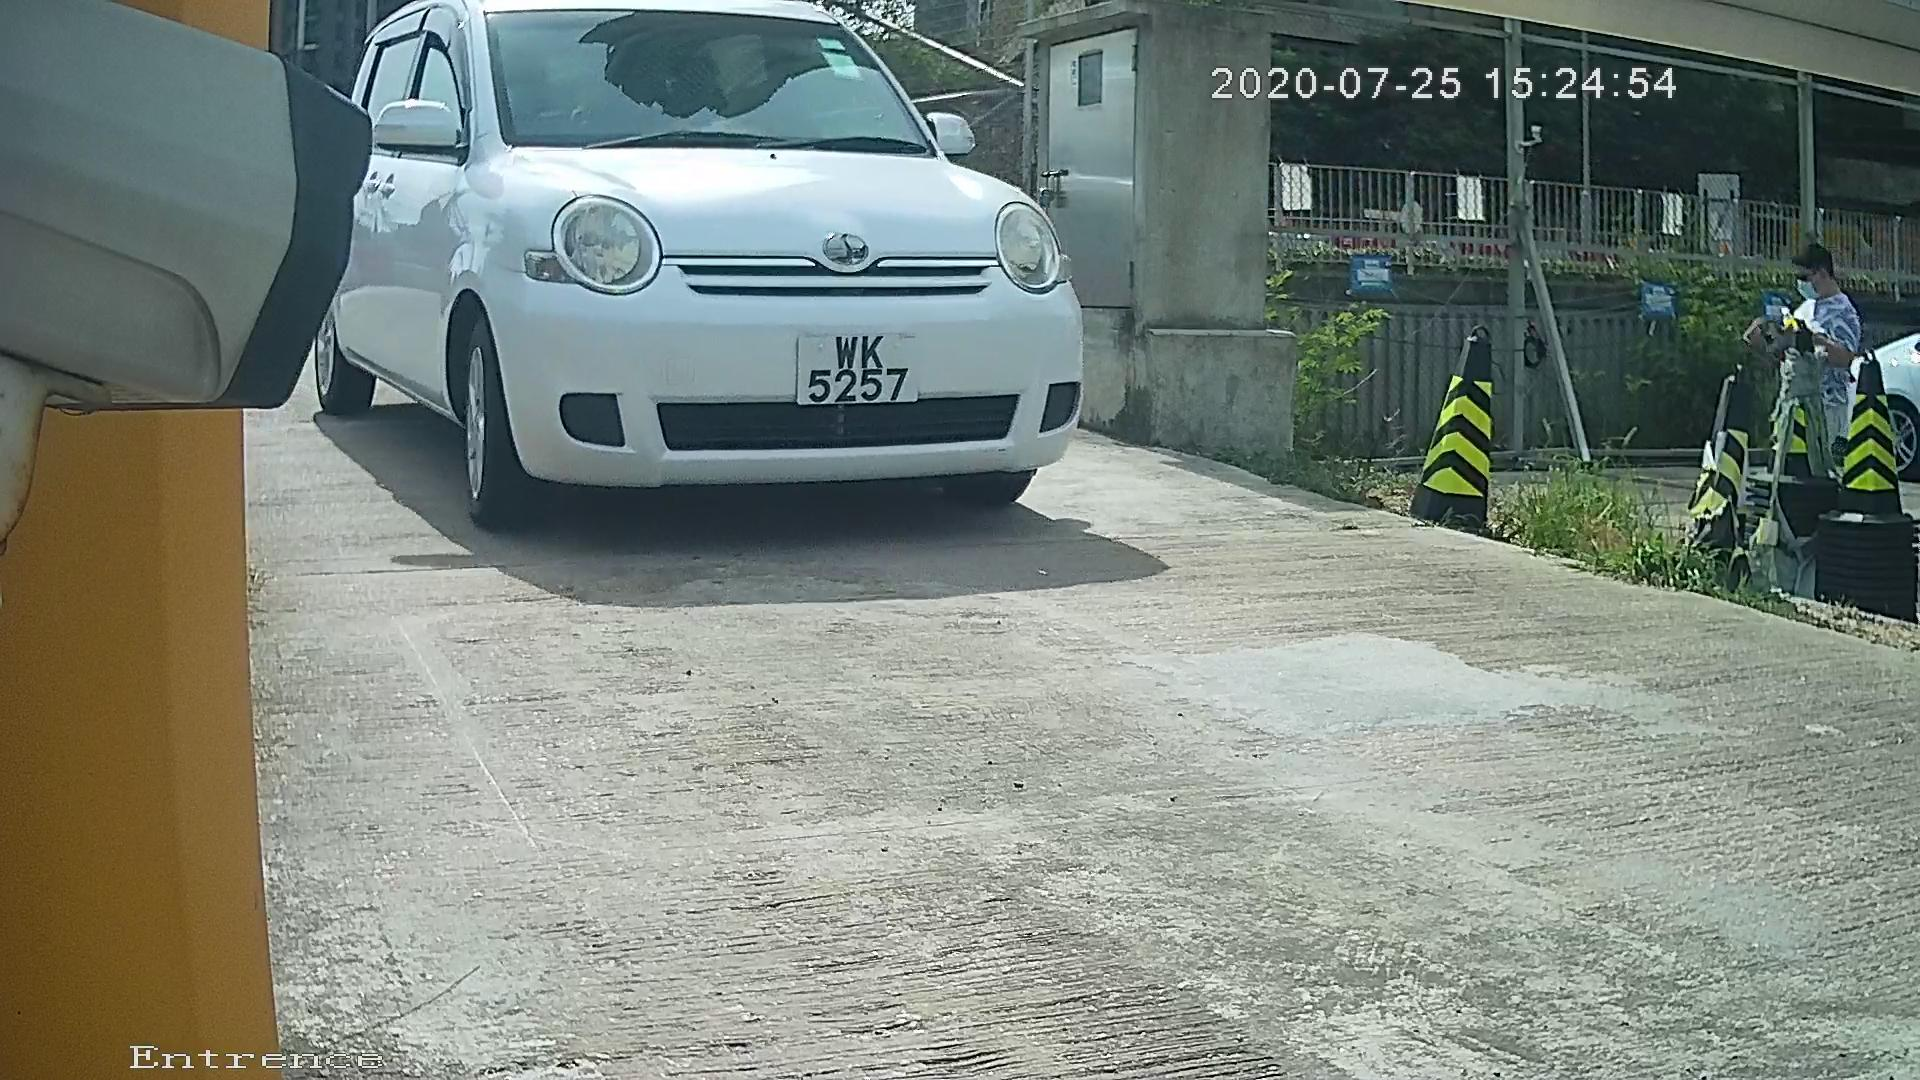License Plate: (763, 319, 943, 430)
